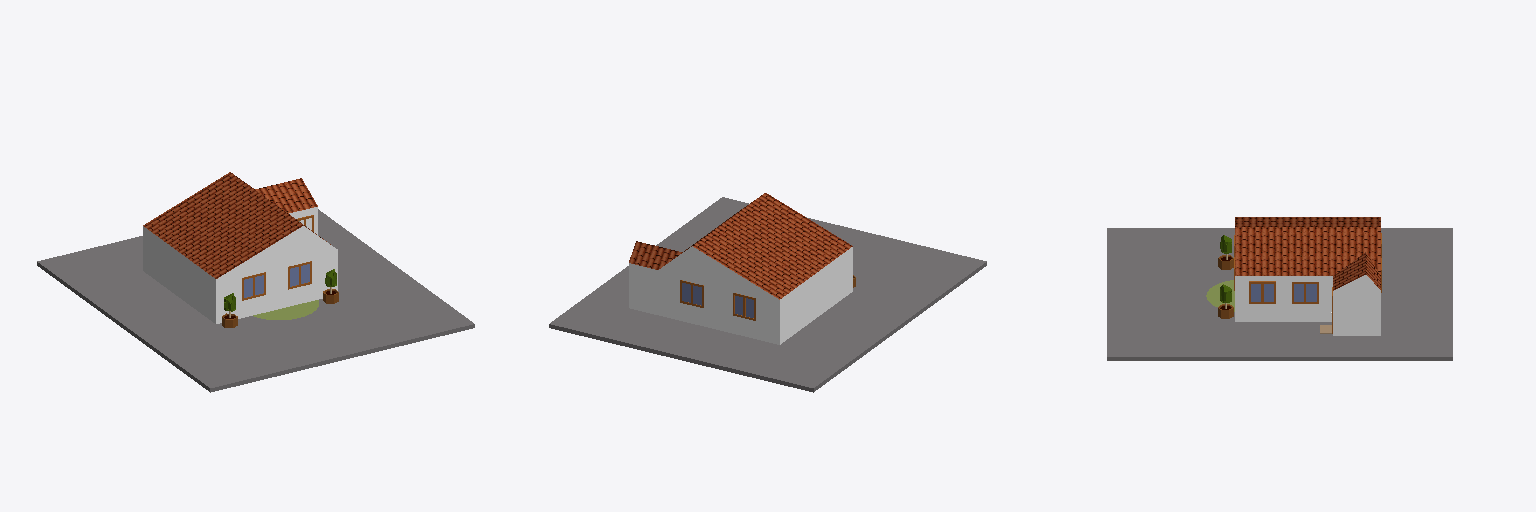
3 renders of one model, left to right at view 1: azimuth 30°, elevation 25°; view 2: azimuth 150°, elevation 25°; view 3: azimuth 270°, elevation 25°, orthographic.
Parts seen in each view (by area): view 1: Mesh8 Model, Mesh3 okno3 Model, Mesh2 okno2 Model; view 2: Mesh8 Model, Mesh5 okno5 Model, Mesh6 okno6 Model; view 3: Mesh8 Model, Mesh4 okno4 Model, Mesh1 okno1 Model.
Part boxes in pixels (x1,y1,x2,y2): Mesh8 Model: (37,172,474,392); Mesh3 okno3 Model: (242,272,265,300); Mesh2 okno2 Model: (288,261,311,289); Mesh8 Model: (549,193,986,392); Mesh5 okno5 Model: (680,280,703,307); Mesh6 okno6 Model: (733,293,755,320); Mesh8 Model: (1107,217,1452,360); Mesh4 okno4 Model: (1249,281,1275,303); Mesh1 okno1 Model: (1292,282,1318,303).
Bounding box in the file's own units: 13.41 × 3.96 × 15.23.
Materials: 13 (1 with a texture image).